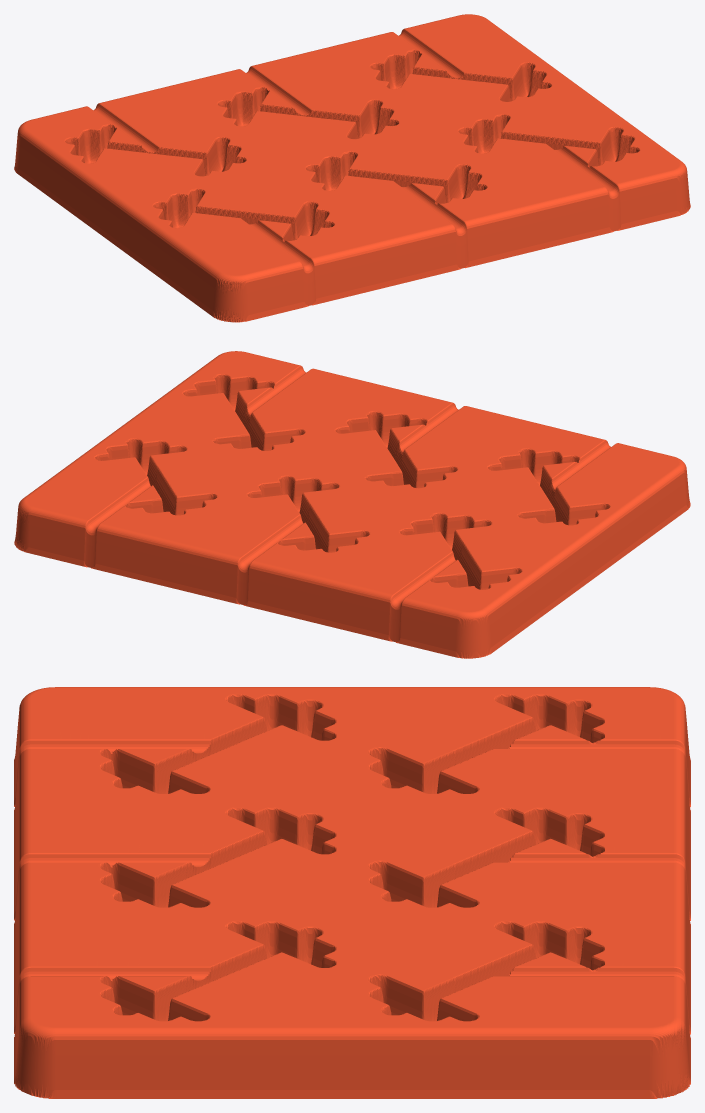
Rendered from mold.glb.
3 views of the same model, one above another, from view 1: azimuth 30°, elevation 25°; view 2: azimuth 150°, elevation 25°; view 3: azimuth 270°, elevation 25° (orthographic). The views are drawn at different scales.
Visible parts, largest first — view 1: geometry_0; view 2: geometry_0; view 3: geometry_0.
Part boxes in pixels (left/top/right/bottom): geometry_0: left=14, top=14, right=690, bottom=322; geometry_0: left=14, top=351, right=690, bottom=658; geometry_0: left=14, top=687, right=690, bottom=1098.
Size of the model in its own units: 0.1824 by 0.0155 by 0.1477.
